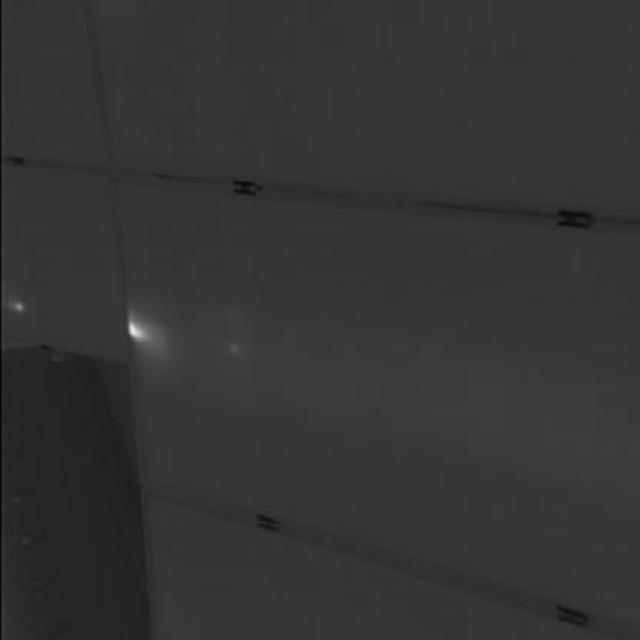hotspot: (122, 308, 158, 357)
